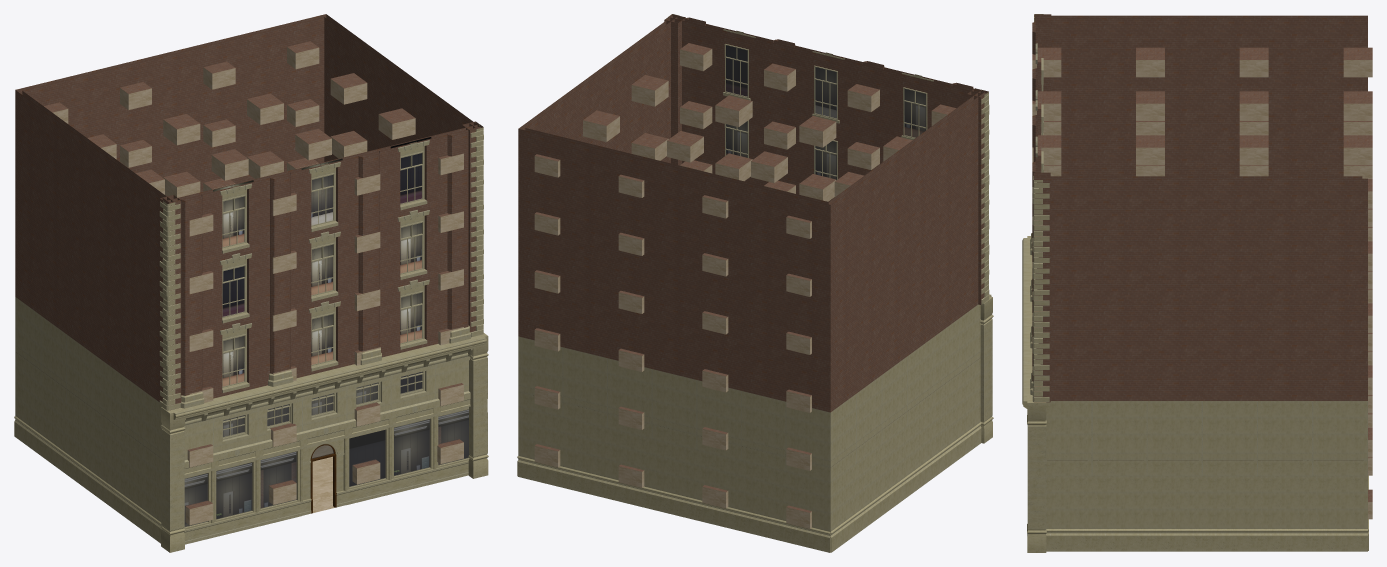
The model's file is Building_Medium_2_001_destructible.gltf.
3 renders of one model, left to right at view 1: azimuth 30°, elevation 25°; view 2: azimuth 150°, elevation 25°; view 3: azimuth 270°, elevation 25°, orthographic. The views are drawn at different scales.
Visible parts, largest first — view 1: block_f5_r3_c0, block_f2_r3_c0, block_f0_r3_c0, block_f3_r3_c0, block_f4_r3_c0, block_f1_r3_c0, block_f5_r0_c3, block_f5_r3_c3, block_f5_r0_c1, block_f5_r3_c1, block_f5_r0_c2, block_f5_r3_c2 (+48 smaller); view 2: block_f5_r0_c0, block_f0_r0_c0, block_f4_r0_c0, block_f3_r0_c0, block_f2_r0_c0, block_f1_r0_c0, block_f5_r3_c3, block_f5_r3_c1, block_f5_r3_c2, block_f5_r0_c2, block_f5_r0_c1, block_f0_r0_c2 (+47 smaller); view 3: block_f5_r1_c3, block_f5_r2_c3, block_f5_r1_c0, block_f5_r2_c0, block_f0_r1_c3, block_f0_r2_c3, block_f1_r1_c3, block_f4_r1_c3, block_f1_r2_c3, block_f4_r2_c3, block_f2_r1_c3, block_f2_r2_c3 (+35 smaller).
Part boxes in pixels (x1=…): block_f5_r3_c0: x1=140, y1=180, x2=241, y2=261; block_f2_r3_c0: x1=140, y1=355, x2=247, y2=437; block_f0_r3_c0: x1=139, y1=471, x2=240, y2=552; block_f3_r3_c0: x1=140, y1=297, x2=241, y2=377; block_f4_r3_c0: x1=140, y1=240, x2=241, y2=319; block_f1_r3_c0: x1=140, y1=413, x2=242, y2=495; block_f5_r0_c3: x1=254, y1=14, x2=354, y2=90; block_f5_r3_c3: x1=405, y1=106, x2=483, y2=199; block_f5_r0_c1: x1=87, y1=52, x2=173, y2=131; block_f5_r3_c1: x1=238, y1=163, x2=325, y2=240; block_f5_r0_c2: x1=170, y1=31, x2=256, y2=111; block_f5_r3_c2: x1=322, y1=142, x2=408, y2=220; block_f5_r0_c0: x1=758, y1=183, x2=859, y2=262; block_f0_r0_c0: x1=757, y1=474, x2=860, y2=552; block_f4_r0_c0: x1=758, y1=242, x2=859, y2=320; block_f3_r0_c0: x1=758, y1=300, x2=859, y2=378; block_f2_r0_c0: x1=758, y1=358, x2=859, y2=436; block_f1_r0_c0: x1=758, y1=416, x2=859, y2=494; block_f5_r3_c3: x1=644, y1=14, x2=744, y2=92; block_f5_r3_c1: x1=825, y1=53, x2=912, y2=133; block_f5_r3_c2: x1=742, y1=33, x2=829, y2=113; block_f5_r0_c2: x1=590, y1=144, x2=676, y2=224; block_f5_r0_c1: x1=674, y1=165, x2=760, y2=244; block_f0_r0_c2: x1=590, y1=436, x2=674, y2=514; block_f5_r1_c3: x1=1202, y1=176, x2=1306, y2=240; block_f5_r2_c3: x1=1098, y1=176, x2=1202, y2=240; block_f5_r1_c0: x1=1202, y1=15, x2=1306, y2=79; block_f5_r2_c0: x1=1098, y1=15, x2=1202, y2=79; block_f0_r1_c3: x1=1202, y1=489, x2=1306, y2=551; block_f0_r2_c3: x1=1098, y1=489, x2=1202, y2=551; block_f1_r1_c3: x1=1202, y1=427, x2=1306, y2=489; block_f4_r1_c3: x1=1202, y1=240, x2=1306, y2=302; block_f1_r2_c3: x1=1098, y1=427, x2=1202, y2=489; block_f4_r2_c3: x1=1098, y1=240, x2=1202, y2=302; block_f2_r1_c3: x1=1202, y1=365, x2=1306, y2=426; block_f2_r2_c3: x1=1098, y1=365, x2=1202, y2=426.
Size of the model in its own units: 10.01 by 10.4 by 8.86.
Materials: 11 (10 with a texture image).
